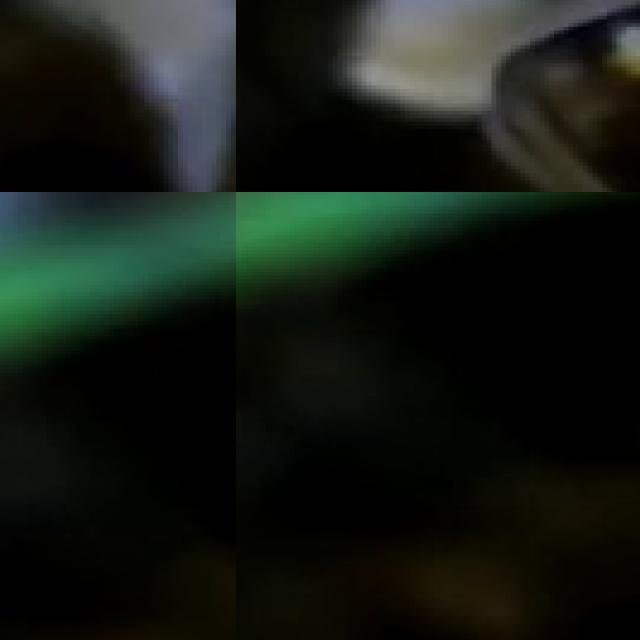fish: (0, 0, 236, 192), (284, 0, 640, 118)
